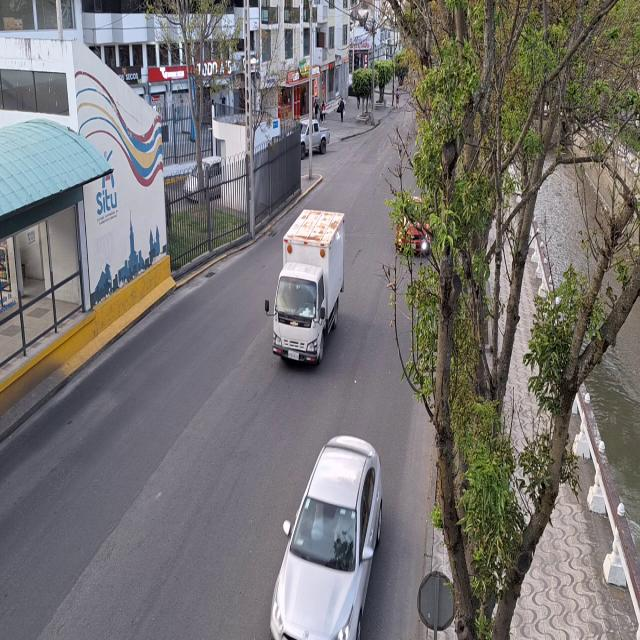CMT: (300, 118, 330, 158)
SED: (264, 425, 390, 639)
TRUCK: (271, 210, 342, 366)
